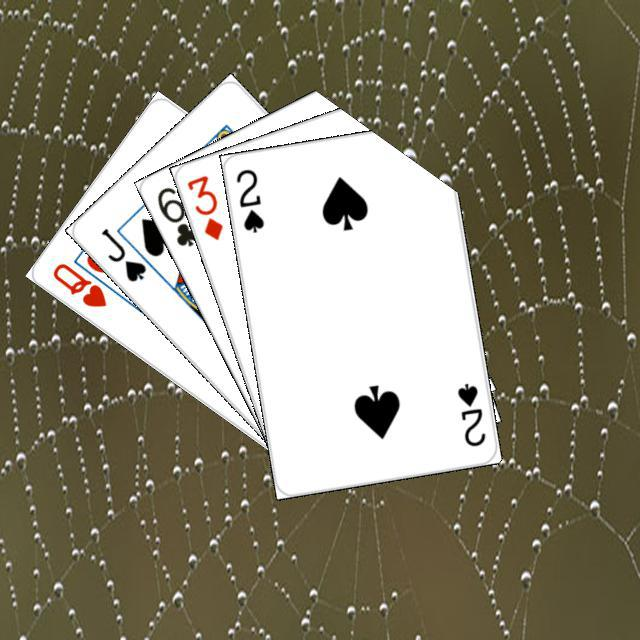2s: (452, 378, 487, 449), (231, 164, 266, 234)
3d: (182, 170, 225, 242)
6c: (152, 182, 200, 248)
Js: (96, 223, 148, 284)
Qh: (47, 258, 109, 309)
